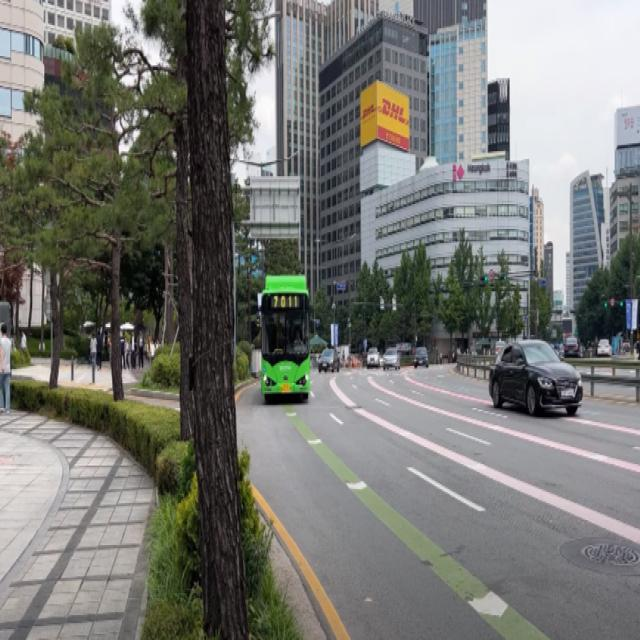bus-number: (272, 295, 298, 310)
